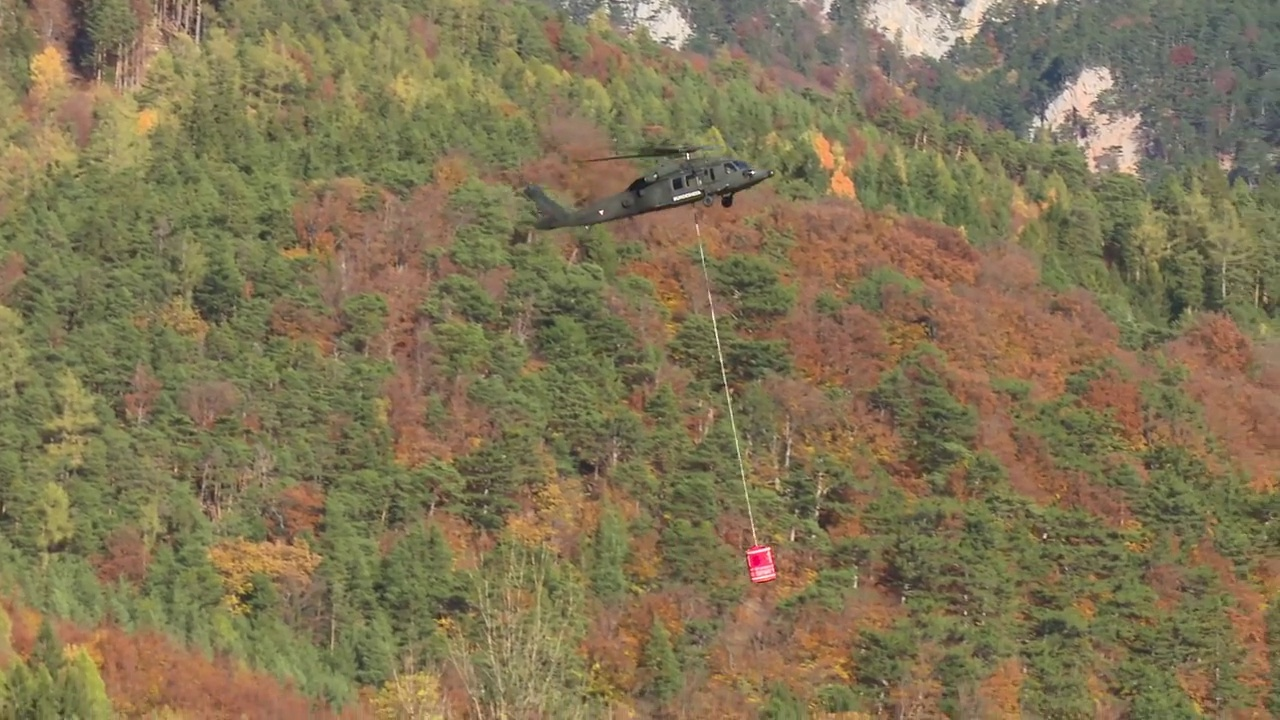heli: (524, 147, 776, 230)
